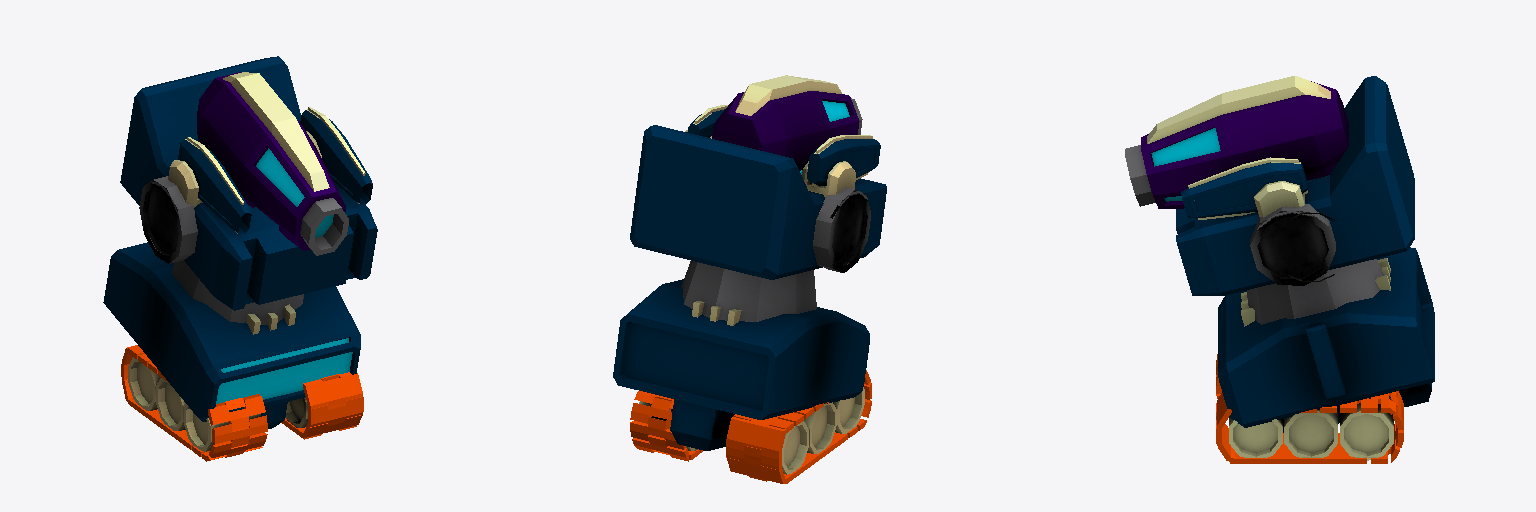
The picture shows the model from 3 angles: view 1: azimuth 30°, elevation 25°; view 2: azimuth 150°, elevation 25°; view 3: azimuth 270°, elevation 25°; orthographic projection.
Visible parts, largest first — view 1: Object009, Box029, Object004, Box028; view 2: Object009, Box029, Object004, Box028; view 3: Object009, Object004, Box028.
Part boxes in pixels (x1,y1,x2,y2): Object009: (103,56,377,428); Box029: (121,345,267,461); Object004: (128,177,307,451); Box028: (281,372,363,439); Object009: (613,75,886,450); Box029: (726,370,871,483); Object004: (639,205,864,474); Box028: (630,391,702,461); Object009: (1125,76,1434,432); Object004: (1229,213,1393,460); Box028: (1216,391,1403,463).
Size of the model in its own units: 211 by 383 by 307.
Materials: 3 (2 with a texture image).